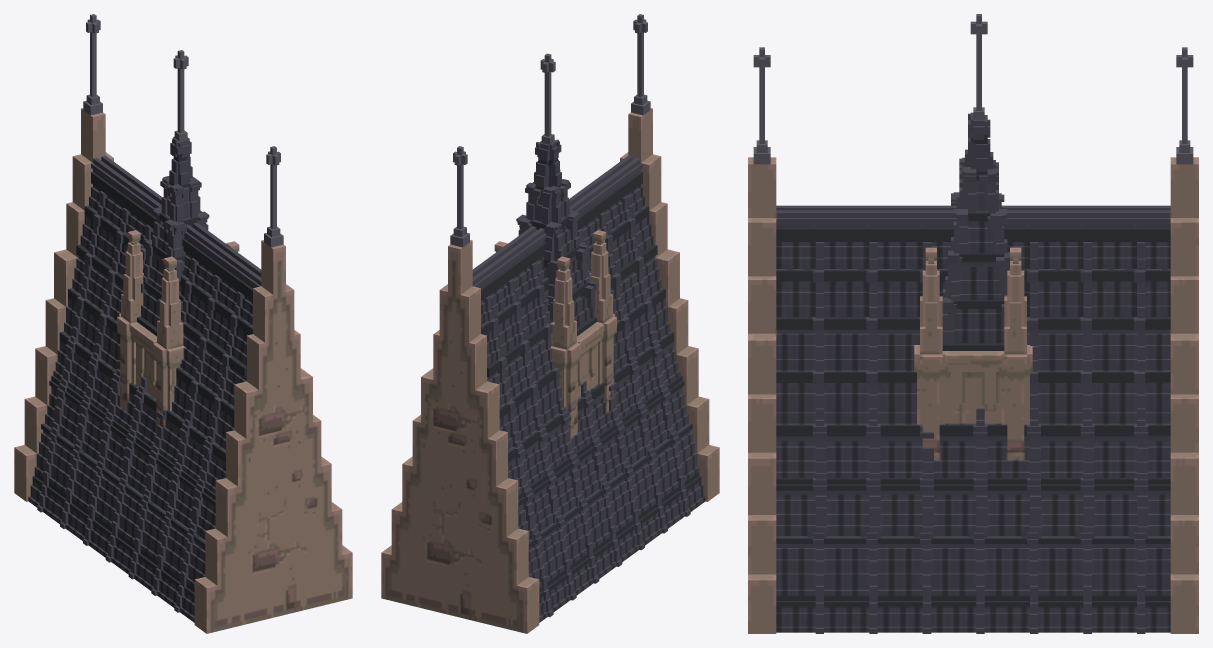
Rendered from Rooftop-3.fbx.
3 views of the same model, side by side, from view 1: azimuth 30°, elevation 25°; view 2: azimuth 150°, elevation 25°; view 3: azimuth 270°, elevation 25° (orthographic). The views are drawn at different scales.
Parts seen in each view (by area): view 1: Rooftop-3; view 2: Rooftop-3; view 3: Rooftop-3.
Boxes of the visible parts, box(x1,y1,x2,y2) form: Rooftop-3: box(14, 14, 352, 633); Rooftop-3: box(381, 14, 719, 633); Rooftop-3: box(748, 14, 1198, 633).
Bounding box in the file's own units: 350 × 1130 × 800.
